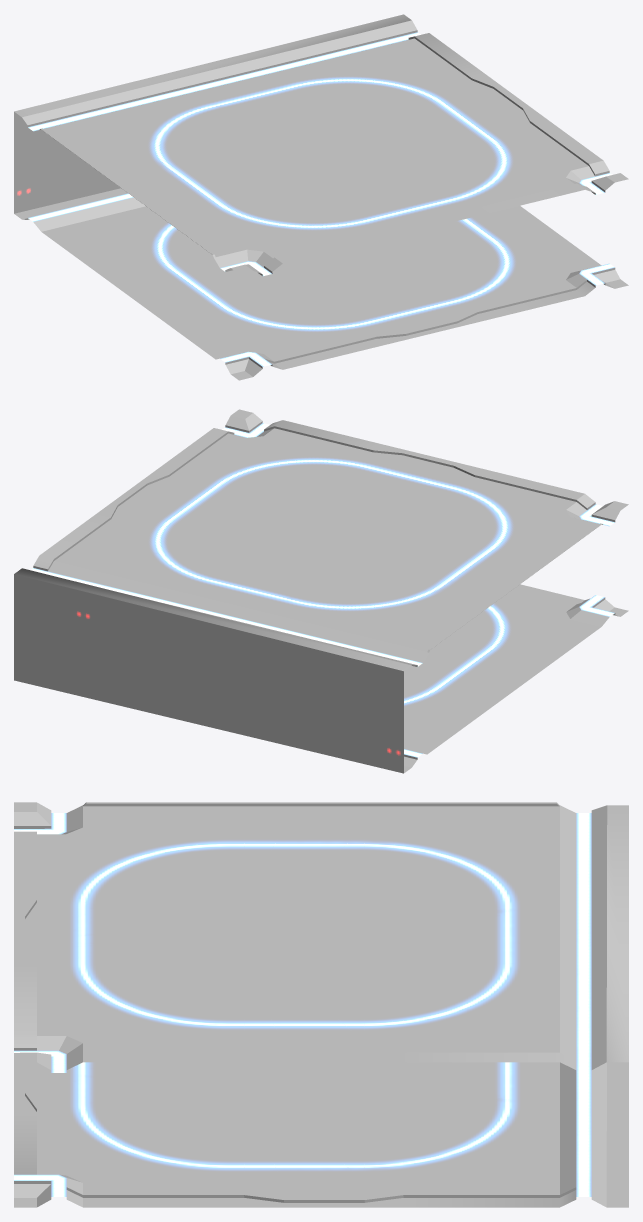
File: 3Way-2S_NoCaps.fbx
3 renders of one model, top to bottom at view 1: azimuth 30°, elevation 25°; view 2: azimuth 150°, elevation 25°; view 3: azimuth 270°, elevation 25°, orthographic. The views are drawn at different scales.
Visible parts, largest first — view 1: 3Way-2S_NoCaps; view 2: 3Way-2S_NoCaps; view 3: 3Way-2S_NoCaps.
Part boxes in pixels (x1=…): 3Way-2S_NoCaps: x1=14, y1=14, x2=628, y2=380; 3Way-2S_NoCaps: x1=14, y1=409, x2=628, y2=773; 3Way-2S_NoCaps: x1=14, y1=802, x2=628, y2=1207.
Size of the model in its own units: 2.5 by 0.6517 by 2.5.
